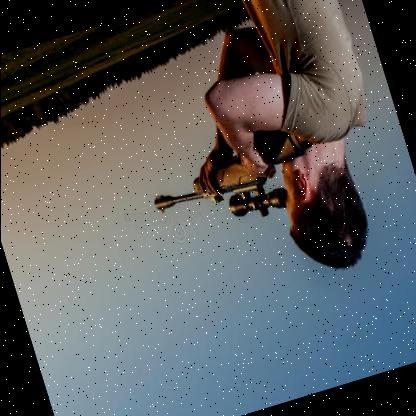rifle: (143, 122, 330, 250)
